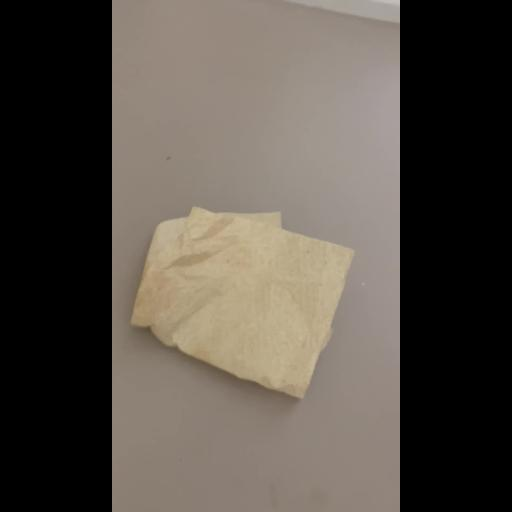napkin: (130, 206, 354, 396)
